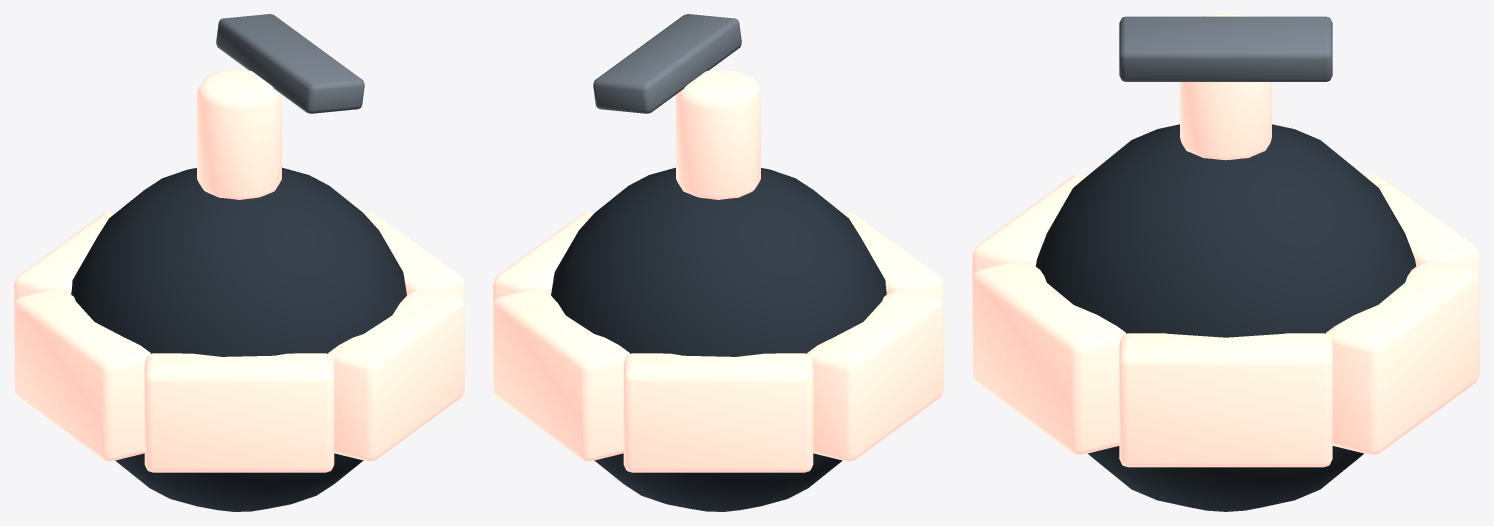
File: Brute_FractalGrenade.fbx
The picture shows the model from 3 angles, left to right: view 1: azimuth 30°, elevation 25°; view 2: azimuth 150°, elevation 25°; view 3: azimuth 270°, elevation 25°; orthographic projection. The views are drawn at different scales.
Visible parts, largest first — view 1: Core.007, Shard_04, Shard_05, Shard_03, Fuse.007, SafetyLever.007, Shard_02, Shard_00; view 2: Core.007, Shard_02, Shard_01, Shard_03, Fuse.007, SafetyLever.007, Shard_04, Shard_00; view 3: Core.007, Shard_00, Shard_01, Shard_05, SafetyLever.007, Fuse.007, Shard_02, Shard_04.
Part boxes in pixels (x1,y1,x2,y2): Core.007: [71, 167, 406, 511]; Shard_04: [144, 353, 334, 472]; Shard_05: [328, 288, 464, 461]; Shard_03: [14, 288, 150, 461]; Fuse.007: [197, 69, 281, 199]; SafetyLever.007: [216, 14, 364, 113]; Shard_02: [14, 212, 114, 302]; Shard_00: [364, 212, 464, 302]; Core.007: [551, 167, 886, 511]; Shard_02: [623, 353, 813, 472]; Shard_01: [493, 288, 629, 461]; Shard_03: [807, 288, 943, 461]; Fuse.007: [676, 69, 760, 199]; SafetyLever.007: [593, 14, 741, 113]; Shard_04: [843, 212, 943, 302]; Shard_00: [493, 212, 593, 302]; Core.007: [1035, 124, 1416, 511]; Shard_00: [1119, 333, 1332, 467]; Shard_01: [1325, 260, 1479, 454]; Shard_05: [972, 260, 1126, 454]; SafetyLever.007: [1119, 16, 1332, 81]; Fuse.007: [1180, 14, 1271, 160]; Shard_02: [1365, 174, 1479, 276]; Shard_04: [972, 174, 1086, 276].
Size of the model in its own units: 128 by 148 by 138.
